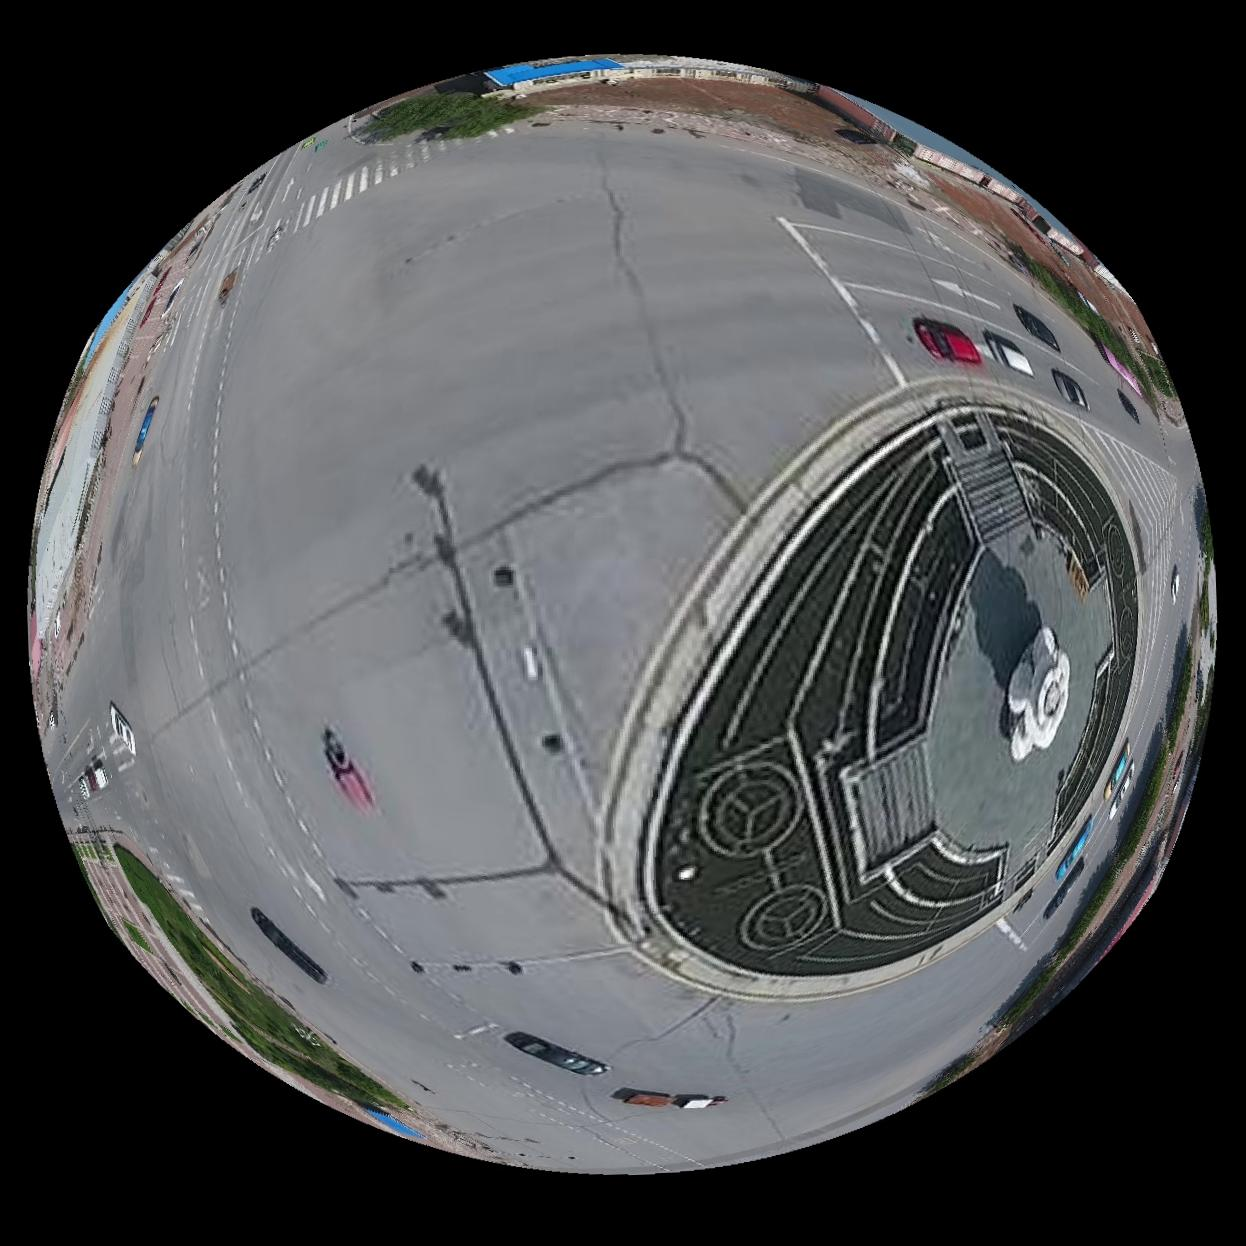cars: (251, 909, 327, 985), (505, 1034, 611, 1077), (915, 317, 984, 365), (612, 1090, 728, 1112), (986, 330, 1035, 376), (1017, 304, 1063, 350), (72, 759, 107, 801), (1054, 369, 1090, 408)
